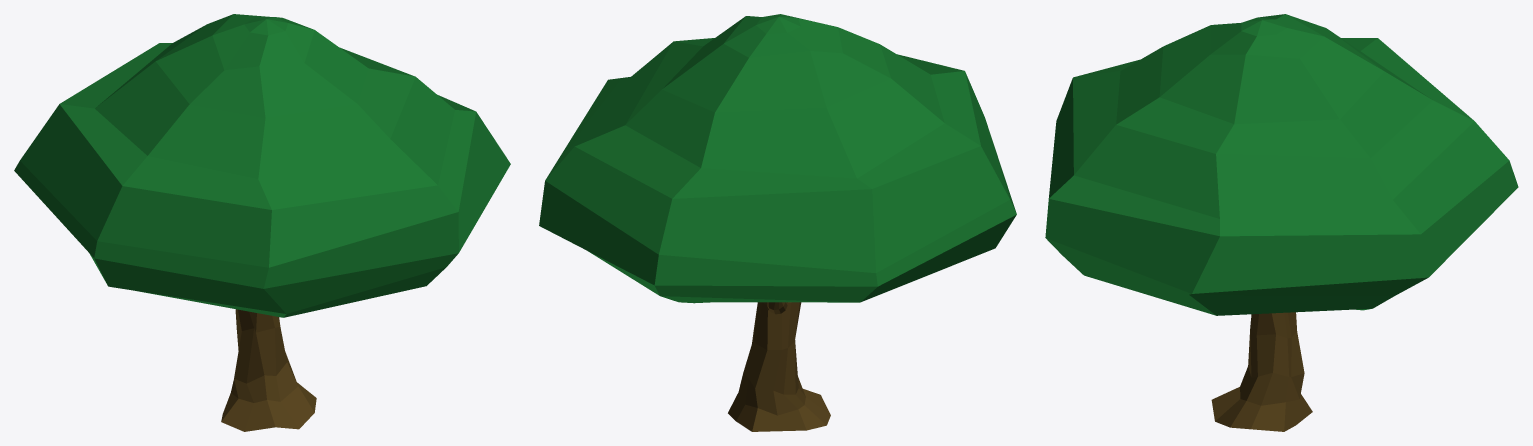
Rendered from LV27_tree2.fbx.
3 renders of one model, left to right at view 1: azimuth 30°, elevation 25°; view 2: azimuth 150°, elevation 25°; view 3: azimuth 270°, elevation 25°, orthographic.
Visible parts, largest first — view 1: leaves, trunk; view 2: leaves, trunk; view 3: leaves, trunk.
Boxes of the visible parts, left/top/right/bottom form: leaves: left=14, top=14, right=510, bottom=317; trunk: left=221, top=309, right=316, bottom=431; leaves: left=539, top=14, right=1016, bottom=303; trunk: left=728, top=302, right=830, bottom=431; leaves: left=1045, top=14, right=1518, bottom=315; trunk: left=1211, top=312, right=1312, bottom=431.
Size of the model in its own units: 3.79 by 3.47 by 3.75.
